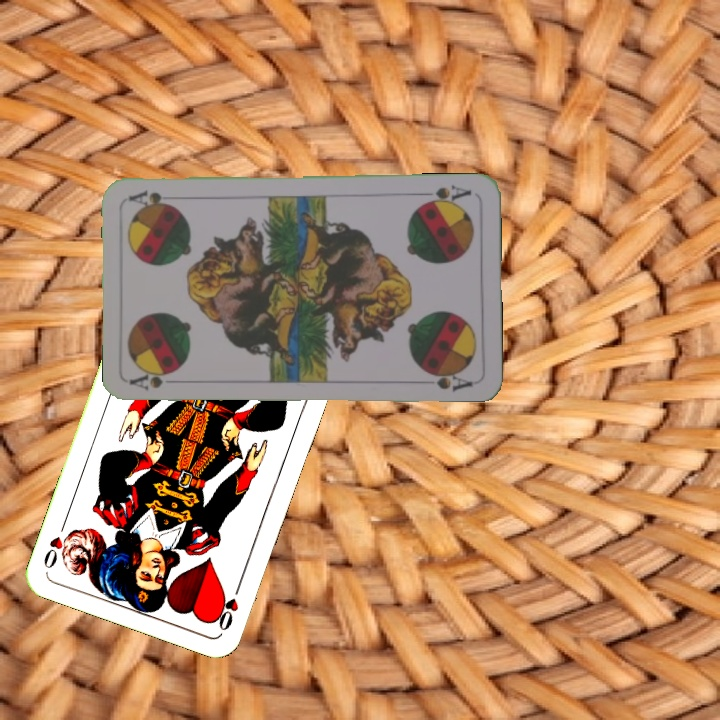HO: (212, 577, 244, 634)
SA: (416, 181, 474, 207), (127, 369, 178, 393)
